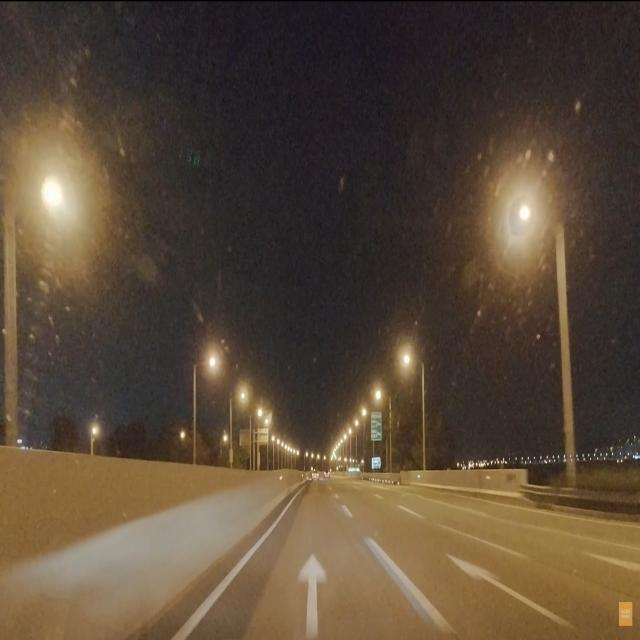forward: (169, 533, 457, 635)
